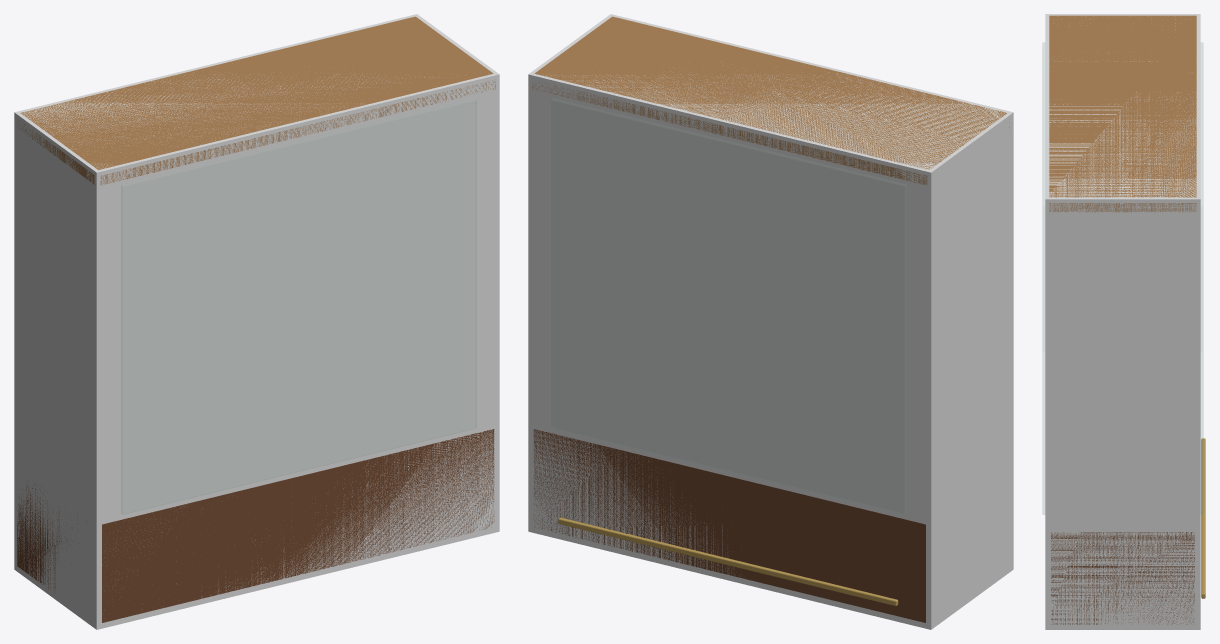
Rendered from luxury.glb.
3 views of the same model, side by side, from view 1: azimuth 30°, elevation 25°; view 2: azimuth 150°, elevation 25°; view 3: azimuth 270°, elevation 25° (orthographic). The views are drawn at different scales.
Visible parts, largest first — view 1: COL_GLASS_SHOWCASES_LUXURY, Showcase_Plinth.004, Showcase_Cap.003, Showcase_GlassBack.003; view 2: COL_GLASS_SHOWCASES_LUXURY, Showcase_Plinth.004, Showcase_Cap.003, Showcase_BrassToeKick, Showcase_GlassFront.003; view 3: COL_GLASS_SHOWCASES_LUXURY, Showcase_Cap.003, Showcase_Plinth.004, Showcase_GlassBack.003, Showcase_GlassFront.003, Showcase_BrassToeKick.
Part boxes in pixels (left/top/right/bottom): COL_GLASS_SHOWCASES_LUXURY: left=14, top=14, right=499, bottom=629; Showcase_Plinth.004: left=17, top=429, right=494, bottom=622; Showcase_Cap.003: left=17, top=16, right=495, bottom=185; Showcase_GlassBack.003: left=122, top=99, right=476, bottom=514; COL_GLASS_SHOWCASES_LUXURY: left=528, top=14, right=1013, bottom=629; Showcase_Plinth.004: left=533, top=429, right=925, bottom=622; Showcase_Cap.003: left=532, top=16, right=1009, bottom=184; Showcase_BrassToeKick: left=558, top=517, right=898, bottom=605; Showcase_GlassFront.003: left=551, top=99, right=905, bottom=514; COL_GLASS_SHOWCASES_LUXURY: left=1045, top=14, right=1200, bottom=629; Showcase_Cap.003: left=1049, top=15, right=1196, bottom=212; Showcase_Plinth.004: left=1051, top=532, right=1194, bottom=624; Showcase_GlassBack.003: left=1042, top=42, right=1044, bottom=514; Showcase_GlassFront.003: left=1201, top=42, right=1203, bottom=514; Showcase_BrassToeKick: left=1201, top=438, right=1205, bottom=598.
Bounding box in the file's own units: 1.89 × 2.05 × 0.7055.
